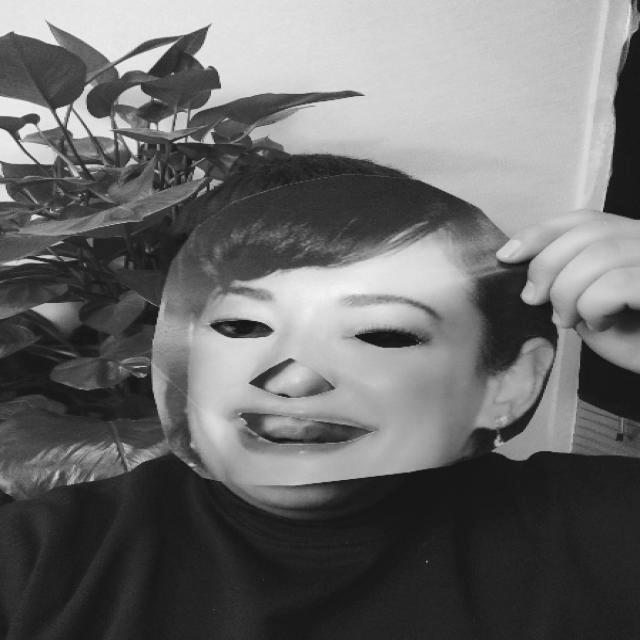fake: (146, 172, 560, 486)
